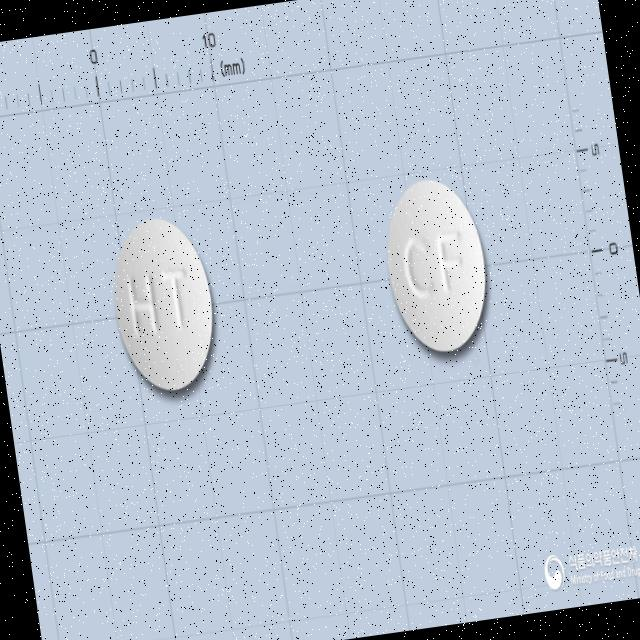Craproxin: (102, 210, 223, 398), (376, 172, 496, 358)
